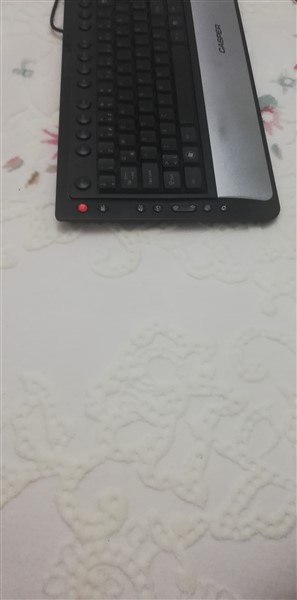klavye: (54, 1, 288, 232)
